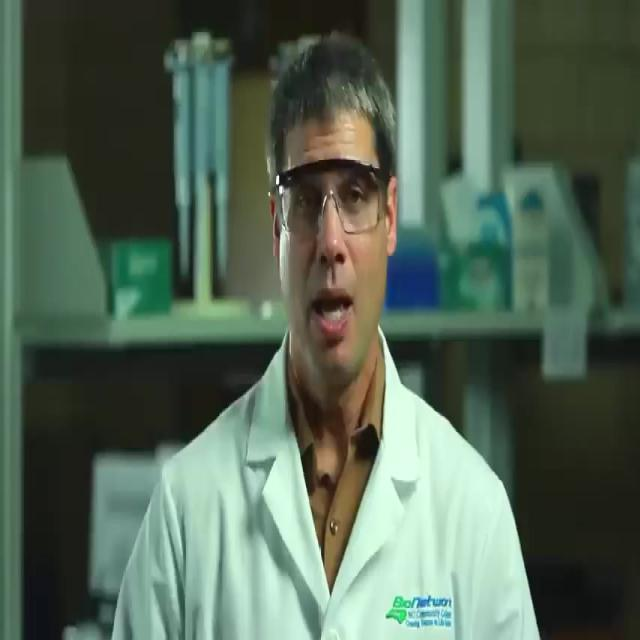googles: (275, 148, 382, 232)
labcoat: (110, 316, 540, 640)
